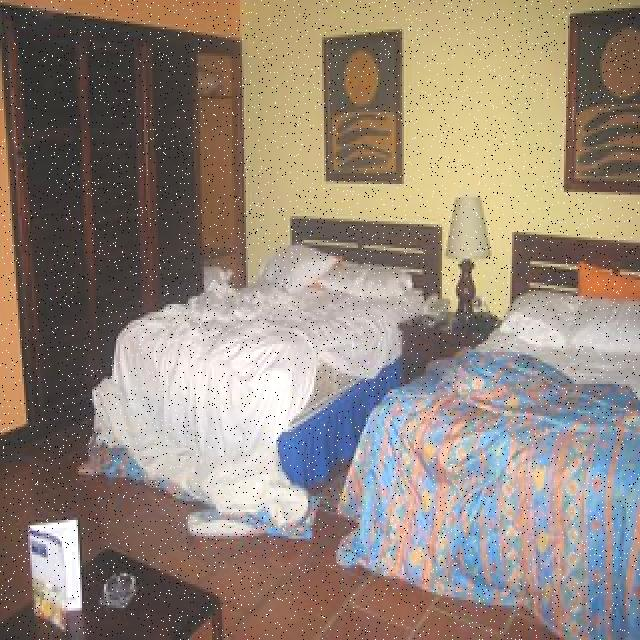bed: (377, 269, 640, 539), (114, 247, 442, 445)
